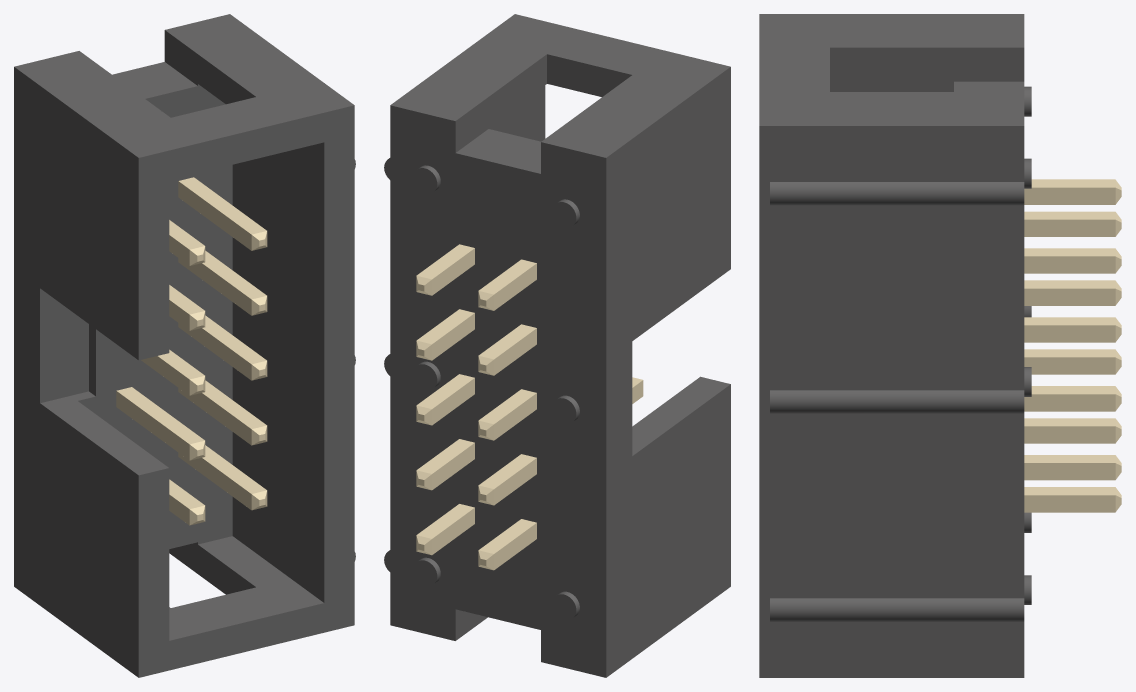
Rendered from IDC-Header_2x05_P2.54mm_Vertical.glb.
3 renders of one model, left to right at view 1: azimuth 30°, elevation 25°; view 2: azimuth 150°, elevation 25°; view 3: azimuth 270°, elevation 25°, orthographic. The views are drawn at different scales.
Visible parts, largest first — view 1: Shape_IndexedFaceSet, Shape_IndexedFaceSet.002, Shape_IndexedFaceSet.014, Shape_IndexedFaceSet.017, Shape_IndexedFaceSet.001, Shape_IndexedFaceSet.013, Shape_IndexedFaceSet.004, Shape_IndexedFaceSet.005, Shape_IndexedFaceSet.011, Shape_IndexedFaceSet.019, Shape_IndexedFaceSet.026, Shape_IndexedFaceSet.057 (+13 smaller); view 2: Shape_IndexedFaceSet.007, Shape_IndexedFaceSet, Shape_IndexedFaceSet.001, Shape_IndexedFaceSet.011, Shape_IndexedFaceSet.005, Shape_IndexedFaceSet.026, Shape_IndexedFaceSet.010, Shape_IndexedFaceSet.014, Shape_IndexedFaceSet.057, Shape_IndexedFaceSet.061, Shape_IndexedFaceSet.085, Shape_IndexedFaceSet.113 (+17 smaller); view 3: Shape_IndexedFaceSet.008, Shape_IndexedFaceSet.001, Shape_IndexedFaceSet.009, Shape_IndexedFaceSet.023, Shape_IndexedFaceSet.024, Shape_IndexedFaceSet.025, Shape_IndexedFaceSet.046, Shape_IndexedFaceSet.074, Shape_IndexedFaceSet.102, Shape_IndexedFaceSet.116, Shape_IndexedFaceSet.130, Shape_IndexedFaceSet.158 (+16 smaller).
Part boxes in pixels (bbox=[...]): Shape_IndexedFaceSet: bbox=[14, 67, 138, 677]; Shape_IndexedFaceSet.002: bbox=[138, 105, 354, 677]; Shape_IndexedFaceSet.014: bbox=[232, 142, 324, 602]; Shape_IndexedFaceSet.017: bbox=[78, 84, 232, 548]; Shape_IndexedFaceSet.001: bbox=[14, 14, 354, 157]; Shape_IndexedFaceSet.013: bbox=[169, 536, 323, 640]; Shape_IndexedFaceSet.004: bbox=[40, 288, 88, 403]; Shape_IndexedFaceSet.005: bbox=[40, 391, 168, 475]; Shape_IndexedFaceSet.011: bbox=[164, 30, 255, 104]; Shape_IndexedFaceSet.019: bbox=[169, 542, 255, 594]; Shape_IndexedFaceSet.026: bbox=[112, 62, 197, 98]; Shape_IndexedFaceSet.057: bbox=[116, 391, 189, 460]; Shape_IndexedFaceSet.007: bbox=[384, 105, 606, 677]; Shape_IndexedFaceSet: bbox=[606, 67, 730, 677]; Shape_IndexedFaceSet.001: bbox=[390, 14, 730, 157]; Shape_IndexedFaceSet.011: bbox=[455, 54, 546, 152]; Shape_IndexedFaceSet.005: bbox=[632, 377, 730, 455]; Shape_IndexedFaceSet.026: bbox=[456, 129, 540, 173]; Shape_IndexedFaceSet.010: bbox=[547, 54, 631, 96]; Shape_IndexedFaceSet.014: bbox=[488, 85, 545, 141]; Shape_IndexedFaceSet.057: bbox=[494, 380, 643, 505]; Shape_IndexedFaceSet.061: bbox=[478, 377, 642, 488]; Shape_IndexedFaceSet.085: bbox=[494, 263, 536, 310]; Shape_IndexedFaceSet.113: bbox=[432, 508, 474, 554]; Shape_IndexedFaceSet.008: bbox=[759, 126, 1024, 677]; Shape_IndexedFaceSet.001: bbox=[759, 14, 1024, 125]; Shape_IndexedFaceSet.009: bbox=[830, 47, 1024, 81]; Shape_IndexedFaceSet.023: bbox=[770, 598, 1024, 621]; Shape_IndexedFaceSet.024: bbox=[770, 390, 1024, 413]; Shape_IndexedFaceSet.025: bbox=[770, 182, 1024, 205]; Shape_IndexedFaceSet.046: bbox=[1024, 463, 1115, 480]; Shape_IndexedFaceSet.074: bbox=[1024, 325, 1115, 342]; Shape_IndexedFaceSet.102: bbox=[1024, 256, 1115, 273]; Shape_IndexedFaceSet.116: bbox=[1024, 495, 1115, 512]; Shape_IndexedFaceSet.130: bbox=[1024, 426, 1115, 443]; Shape_IndexedFaceSet.158: bbox=[1024, 219, 1115, 236].
Bounding box in the file's own units: 3.58 × 8.02 × 4.76.
